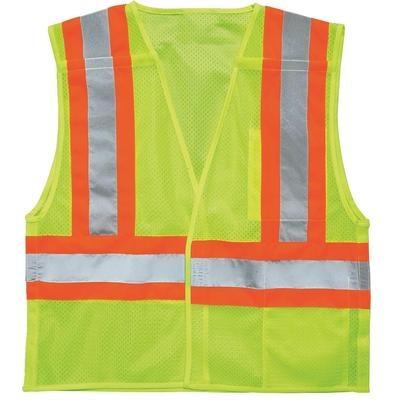safety vest: (26, 7, 369, 393)
